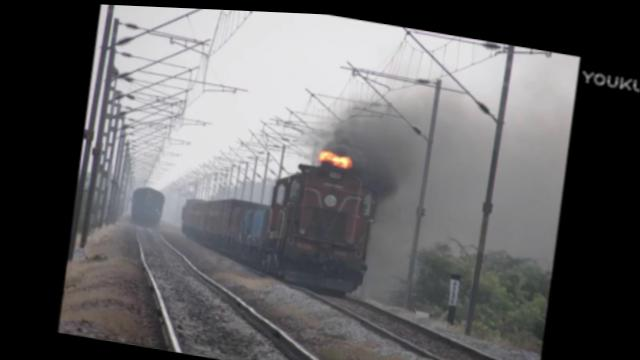fire: (315, 144, 354, 164)
